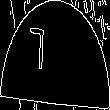L_S: (46, 28, 64, 82)
